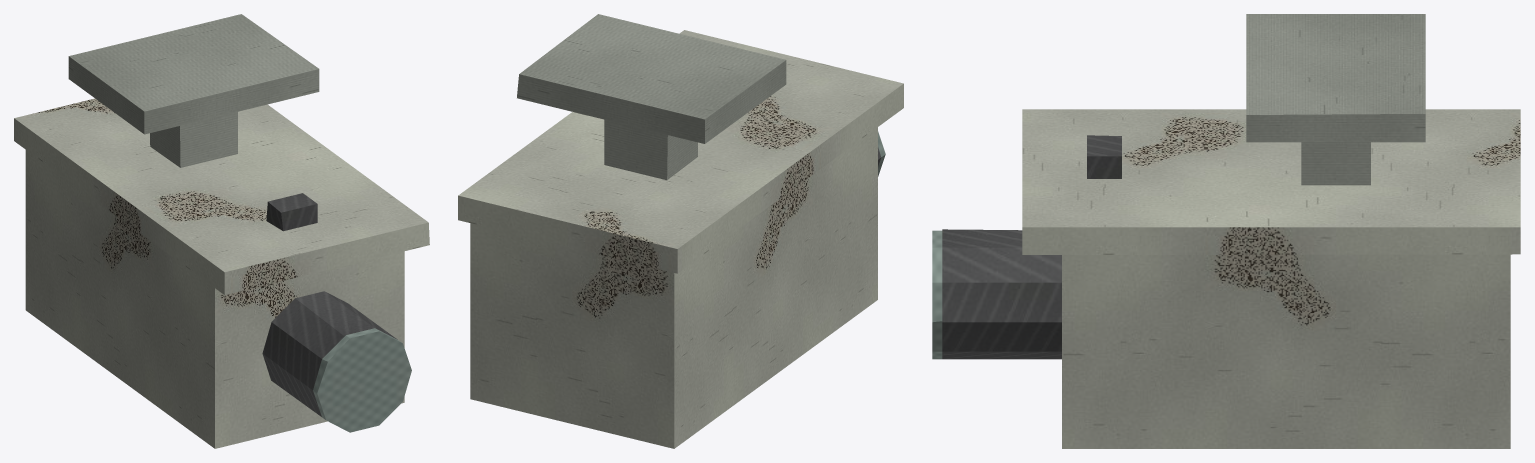
Rendered from camera2_v3.glb.
3 renders of one model, left to right at view 1: azimuth 30°, elevation 25°; view 2: azimuth 150°, elevation 25°; view 3: azimuth 270°, elevation 25°, orthographic. The views are drawn at different scales.
Parts seen in each view (by area): view 1: Variant_camera2_3; view 2: Variant_camera2_3; view 3: Variant_camera2_3.
Boxes of the visible parts, x1,y1,x2,y2 form: Variant_camera2_3: (14, 14, 429, 448); Variant_camera2_3: (458, 14, 903, 448); Variant_camera2_3: (932, 14, 1520, 448).
Bounding box in the file's own units: 0.1126 × 0.146 × 0.236.
4 materials, 4 textured.
